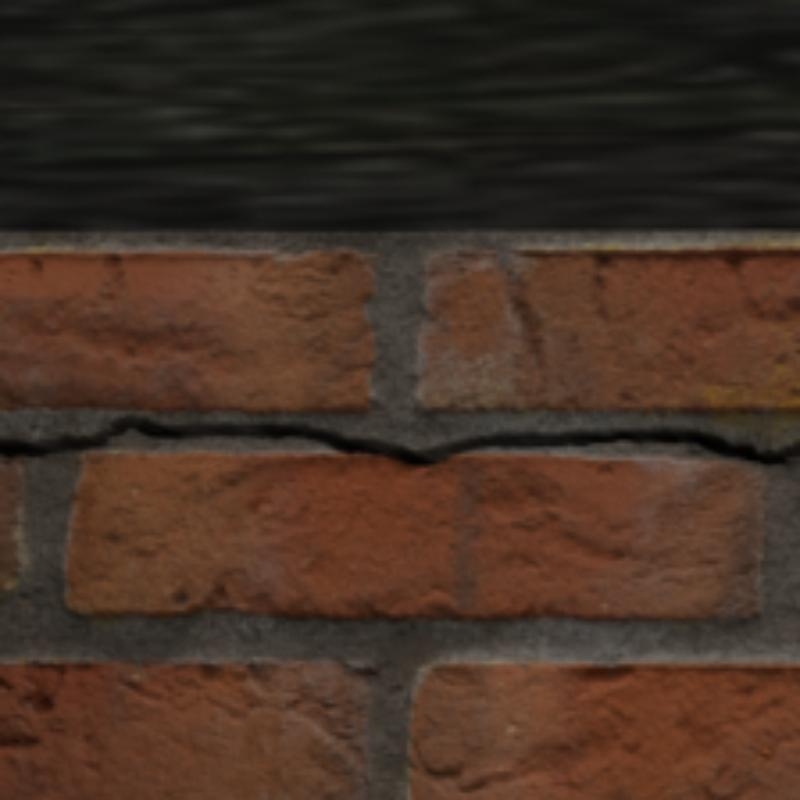pothole: (0, 418, 796, 464)
